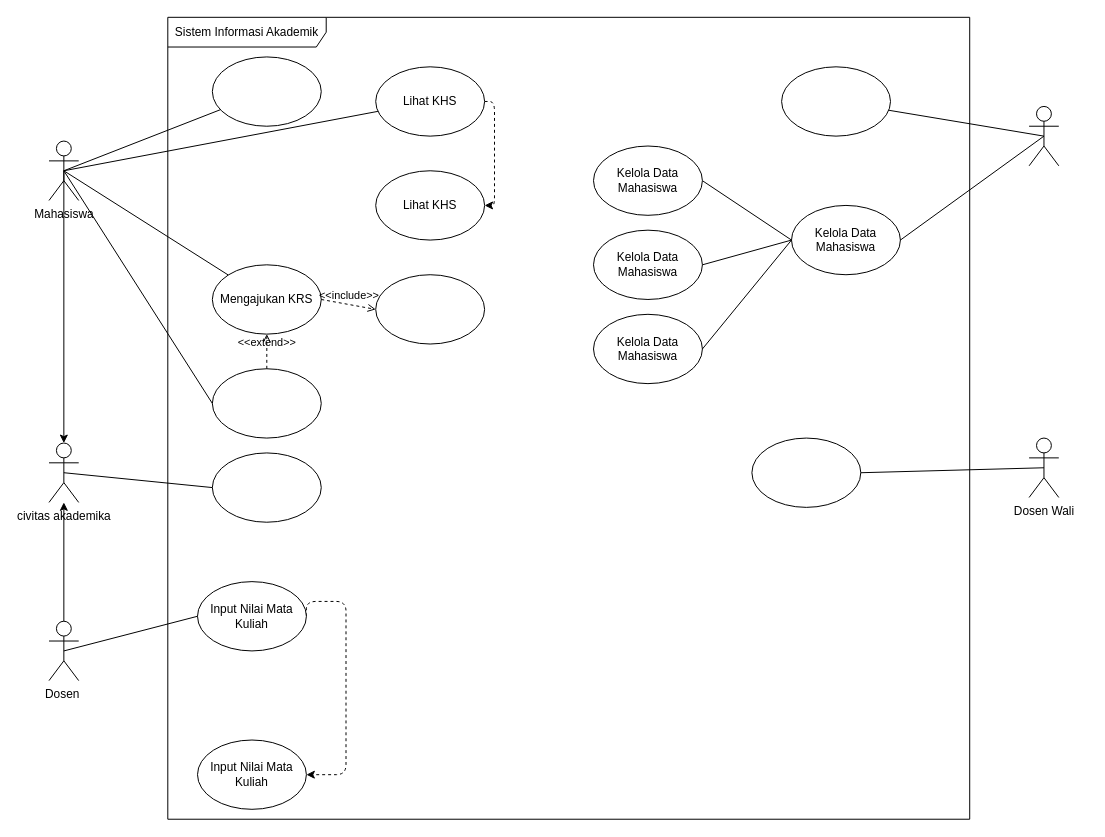
Some shapes in this 1105 by 837 pixel diagram are drawn without their labels. Here are the shapes that lost their labels. From the top down, the centre of each, then its label:
the point at 266,91: Lihat Jadwal kuliah
the point at 836,101: Kelola jadwal Kuliah
the point at 1043,135: Admin Akademik
the point at 430,309: Validasi KRS
the point at 266,403: unduh bukti pengajuan
the point at 266,487: Lihat Kalender Akademik
the point at 806,472: Keputusan KRS
